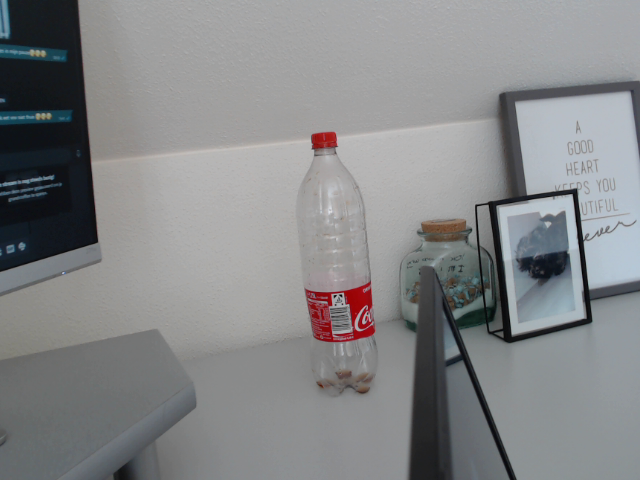bottle: (296, 132, 380, 396)
